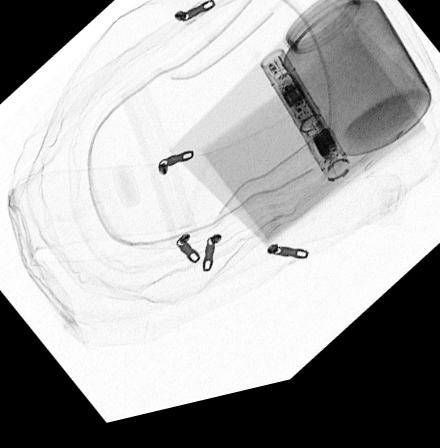Baton: (256, 61, 350, 199)
